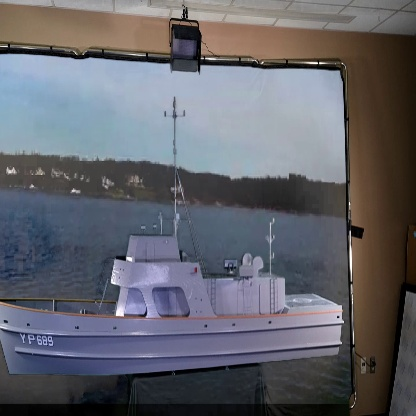YP689: (0, 94, 344, 377)
